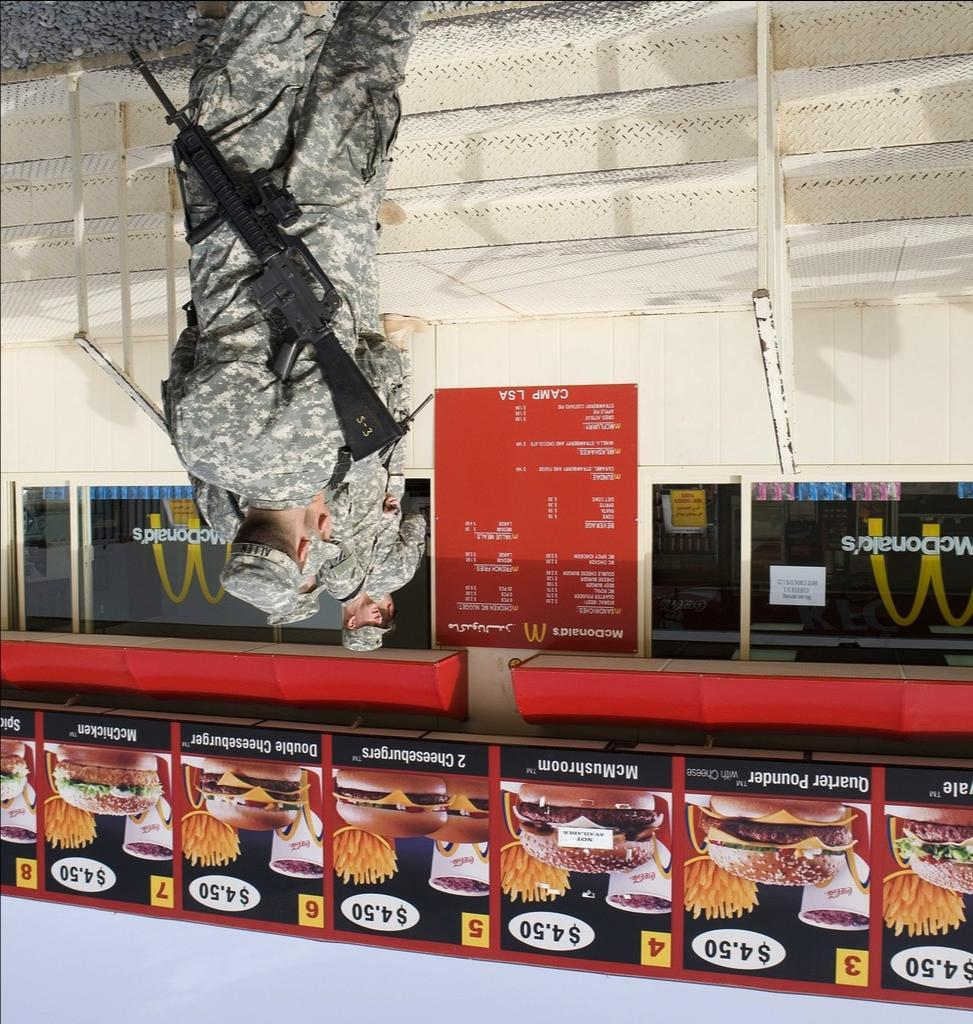gun: (120, 39, 392, 455)
